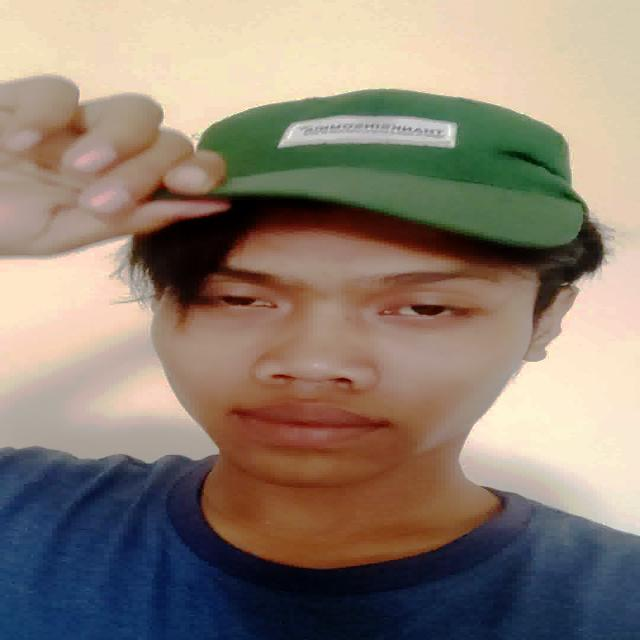TOPI: (138, 79, 598, 258)
